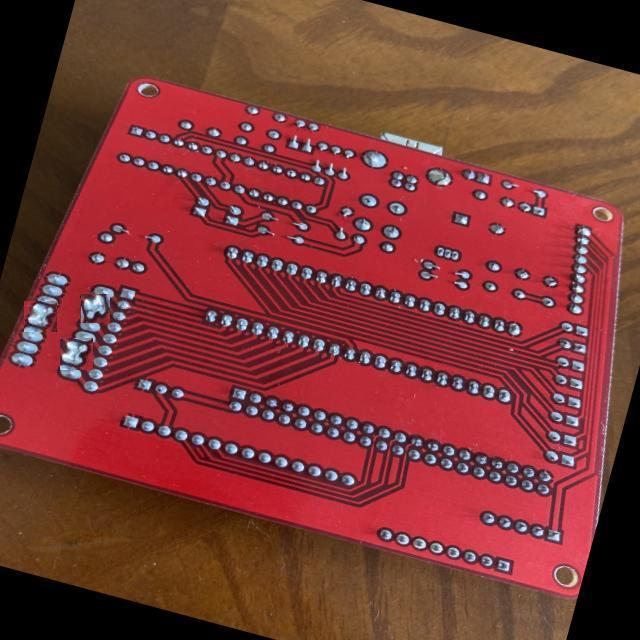damged: (60, 338, 93, 370), (24, 302, 57, 334), (81, 294, 110, 323)
